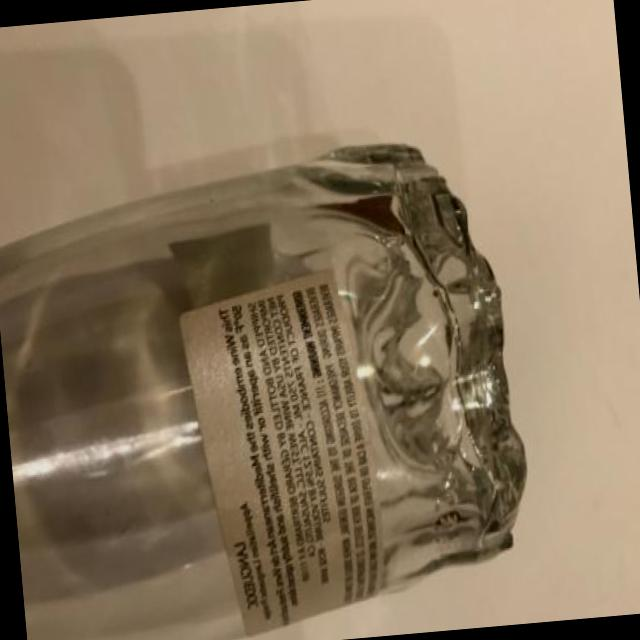chai_thuy_tinh: (0, 145, 526, 640)
